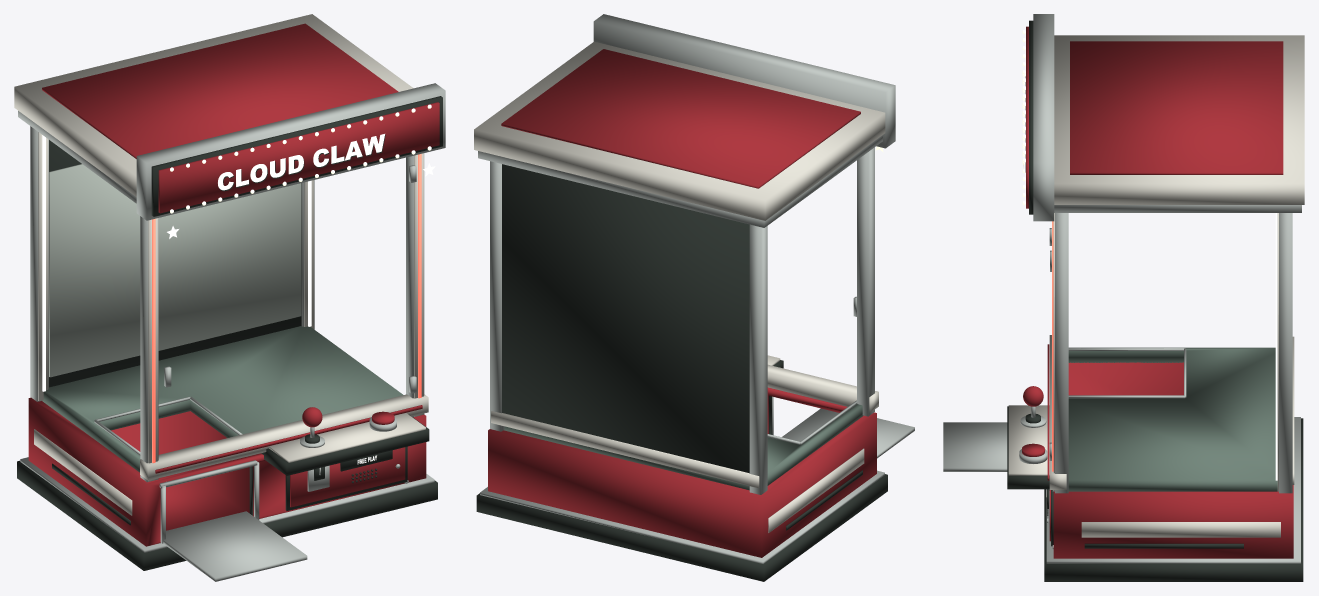
File: cabinet.glb
3 views of the same model, side by side, from view 1: azimuth 30°, elevation 25°; view 2: azimuth 150°, elevation 25°; view 3: azimuth 270°, elevation 25° (orthographic). The views are drawn at different scales.
Parts seen in each view (by area): view 1: Back graphic panel, Red roof insert, Prize bed, Red lower cabinet, Marquee red lightbox, White roof, Marquee chrome surround, Steel plinth, Prize chute inner tray, Front white sill, Back steel wall, Marquee black gasket (+22 smaller); view 2: Back steel wall, Red roof insert, Red lower cabinet, White roof, Marquee chrome surround, Steel plinth, Extruded aluminium upright.001, Extruded aluminium upright, Rear sill, Prize bed, Roof steel rim, Extruded aluminium upright.003 (+4 smaller); view 3: Red roof insert, Prize bed, Red lower cabinet, White roof, Steel plinth, Marquee chrome surround, Extruded aluminium upright.003, Extruded aluminium upright.002, Prize chute inner tray, Side graphic white band.001, Plinth chrome edge, Control shelf enamel (+11 smaller).
Boxes of the visible parts, <box> form: Back graphic panel: <box>49,164,301,377</box>; Red roof insert: <box>42,23,398,158</box>; Prize bed: <box>42,326,403,472</box>; Red lower cabinet: <box>28,397,426,546</box>; Marquee red lightbox: <box>158,102,439,213</box>; White roof: <box>14,14,413,196</box>; Marquee chrome surround: <box>136,83,445,220</box>; Steel plinth: <box>17,460,437,570</box>; Prize chute inner tray: <box>163,511,307,581</box>; Front white sill: <box>140,394,428,480</box>; Back steel wall: <box>49,140,301,387</box>; Marquee black gasket: <box>151,96,442,216</box>; Back steel wall: <box>502,164,749,473</box>; Red roof insert: <box>501,49,860,188</box>; Red lower cabinet: <box>488,387,876,557</box>; White roof: <box>474,41,885,220</box>; Marquee chrome surround: <box>593,14,895,148</box>; Steel plinth: <box>476,474,887,581</box>; Extruded aluminium upright.001: <box>749,224,767,494</box>; Extruded aluminium upright: <box>857,147,874,416</box>; Rear sill: <box>491,411,759,488</box>; Prize bed: <box>504,404,863,490</box>; Roof steel rim: <box>478,135,882,227</box>; Extruded aluminium upright.003: <box>490,161,504,431</box>; Red roof insert: <box>1070,41,1283,174</box>; Prize bed: <box>1068,347,1277,491</box>; Red lower cabinet: <box>1053,362,1293,558</box>; White roof: <box>1054,35,1304,204</box>; Steel plinth: <box>1044,418,1303,581</box>; Marquee chrome surround: <box>1033,14,1054,221</box>; Extruded aluminium upright.003: <box>1279,213,1292,493</box>; Extruded aluminium upright.002: <box>1055,213,1068,493</box>; Prize chute inner tray: <box>943,422,1007,471</box>; Side graphic white band.001: <box>1081,522,1280,537</box>; Plinth chrome edge: <box>1046,417,1300,563</box>; Control shelf enamel: <box>1008,405,1049,475</box>.
Size of the model in its own units: 3.71 by 4.94 by 3.81.
